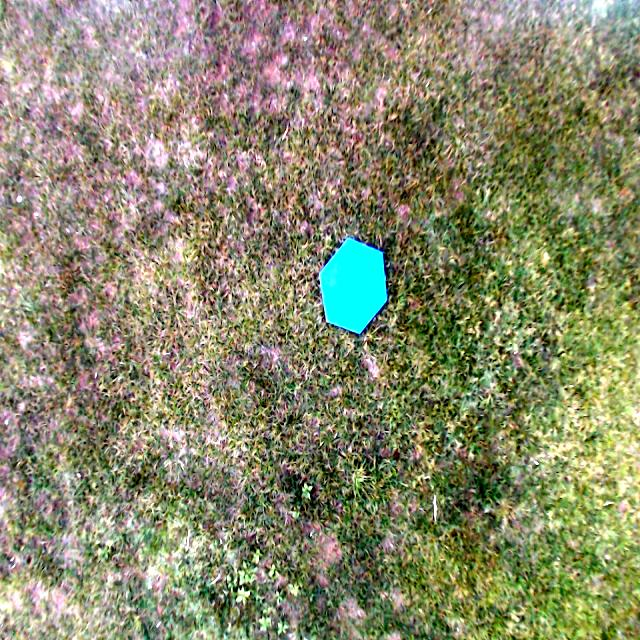blue_hexagon: (317, 236, 388, 336)
